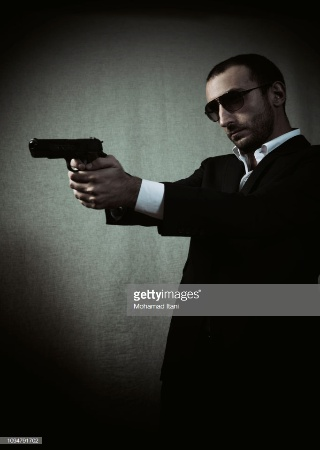handgun: (22, 130, 108, 184)
